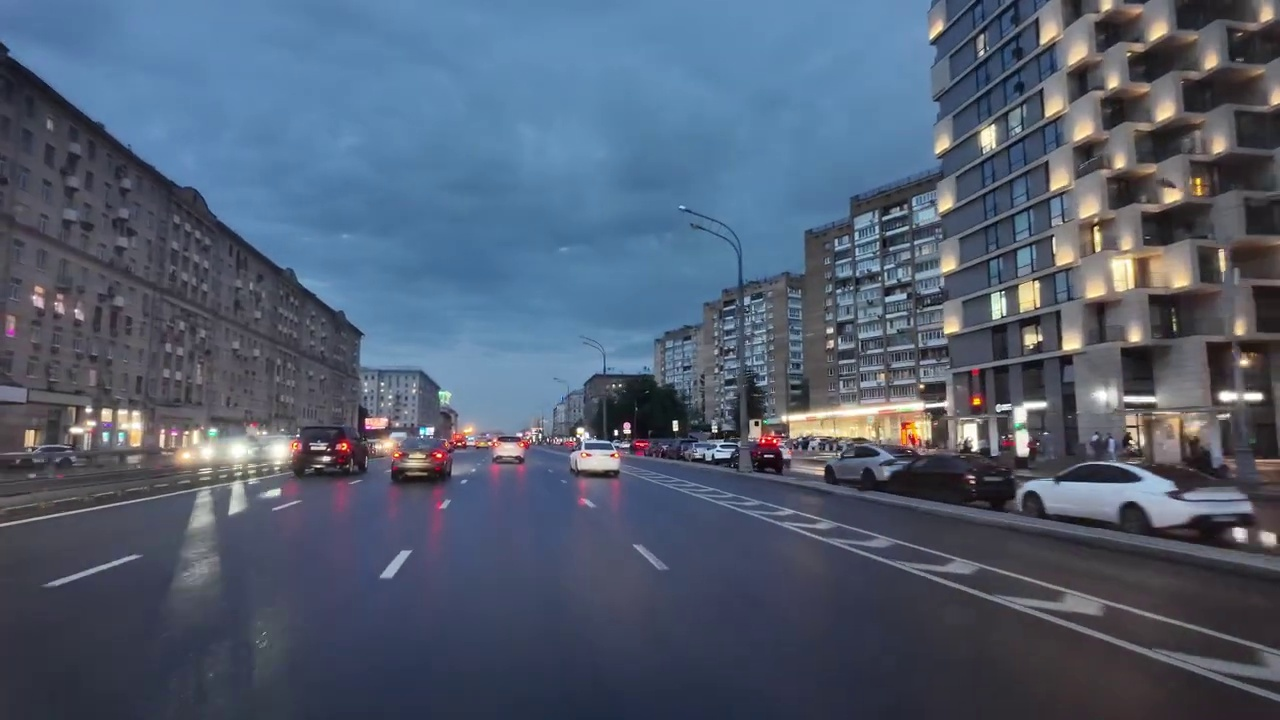apagada: (675, 202, 706, 236)
